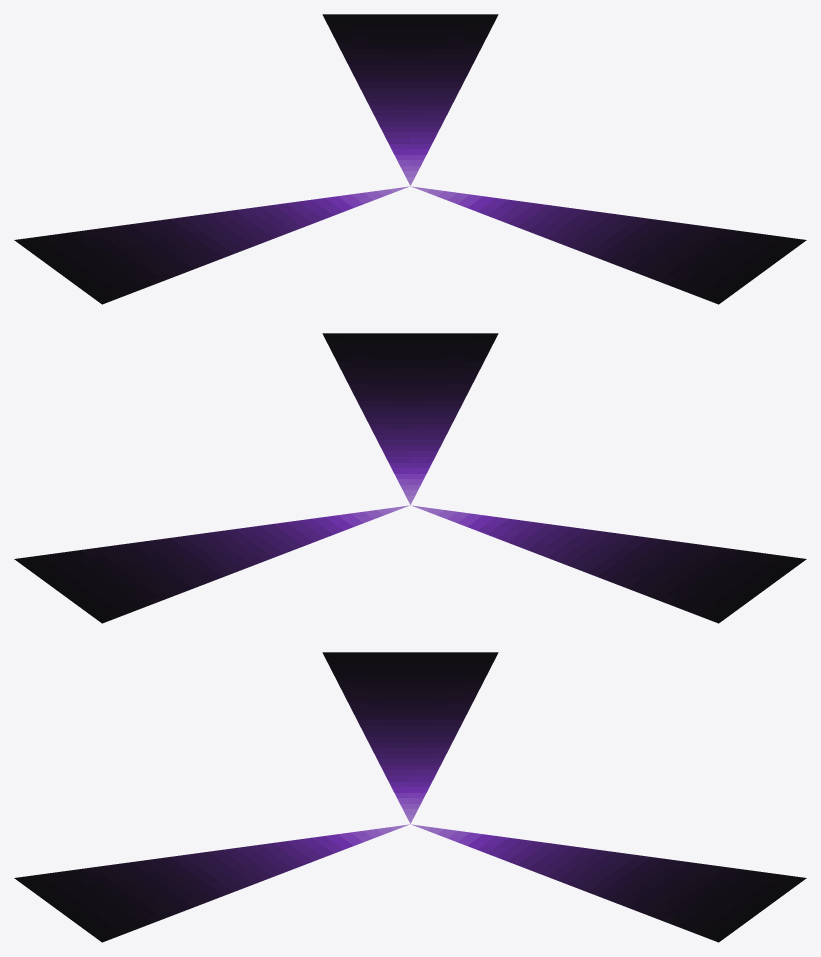
File: fangsheg.FBX
3 views of the same model, one above another, from view 1: azimuth 30°, elevation 25°; view 2: azimuth 150°, elevation 25°; view 3: azimuth 270°, elevation 25° (orthographic).
Visible parts, largest first — view 1: Cylinder004, Cylinder002, Cylinder003; view 2: Cylinder004, Cylinder003, Cylinder002; view 3: Cylinder003, Cylinder002, Cylinder004.
Boxes of the visible parts, x1,y1,x2,y2 form: Cylinder004: (14, 186, 409, 304); Cylinder002: (411, 186, 806, 304); Cylinder003: (322, 14, 498, 185); Cylinder004: (411, 505, 806, 623); Cylinder003: (14, 505, 409, 623); Cylinder002: (322, 333, 498, 504); Cylinder003: (411, 824, 806, 942); Cylinder002: (14, 824, 409, 942); Cylinder004: (322, 652, 498, 823).
Size of the model in its own units: 76.09 by 1.91e-06 by 87.86.
Materials: 1 (1 with a texture image).
